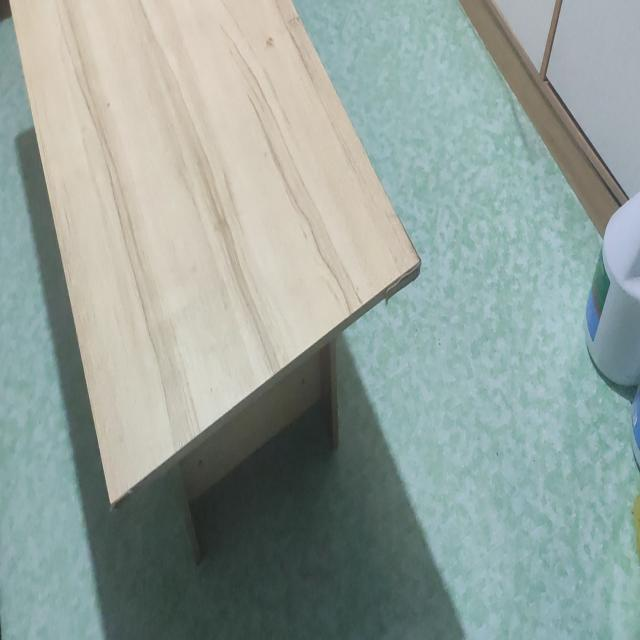table: (7, 0, 426, 574)
